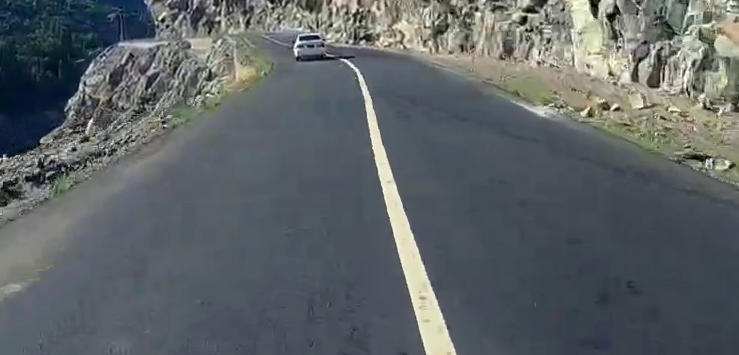left: (260, 82, 564, 336)
